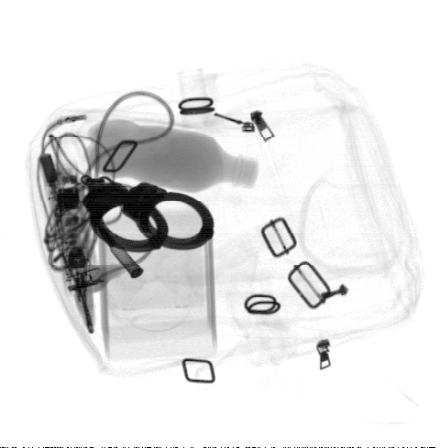Bullet: (97, 223, 143, 278)
HandCuffs: (79, 176, 215, 253)
